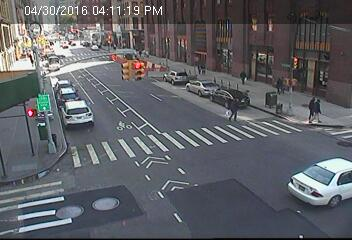neg: (48, 164, 76, 200), (93, 100, 117, 132), (36, 125, 60, 157), (286, 159, 310, 191), (173, 57, 197, 89), (36, 79, 59, 110), (136, 156, 158, 184), (185, 171, 207, 199), (96, 183, 117, 210), (229, 172, 249, 198), (67, 53, 86, 78), (131, 57, 145, 76)
pos: (224, 94, 248, 125), (311, 99, 329, 123), (236, 66, 252, 87), (273, 73, 288, 93)
